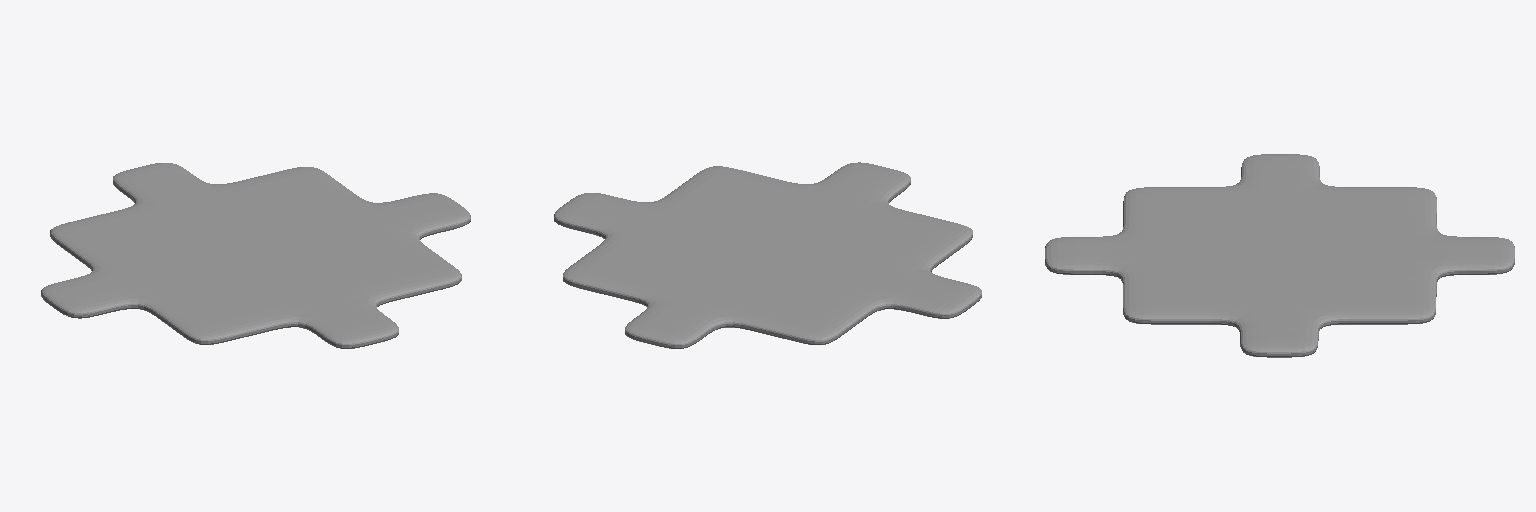
3 views of the same model, side by side, from view 1: azimuth 30°, elevation 25°; view 2: azimuth 150°, elevation 25°; view 3: azimuth 270°, elevation 25° (orthographic).
Parts seen in each view (by area): view 1: Puzzle.003_Puzzle.003_GoldenEggMaterial; view 2: Puzzle.003_Puzzle.003_GoldenEggMaterial; view 3: Puzzle.003_Puzzle.003_GoldenEggMaterial.
Boxes of the visible parts, x1=… form: Puzzle.003_Puzzle.003_GoldenEggMaterial: x1=41, y1=163, x2=470, y2=348; Puzzle.003_Puzzle.003_GoldenEggMaterial: x1=554, y1=162, x2=981, y2=348; Puzzle.003_Puzzle.003_GoldenEggMaterial: x1=1045, y1=154, x2=1514, y2=357.
Size of the model in its own units: 0.375 by 0.0092 by 0.3762.